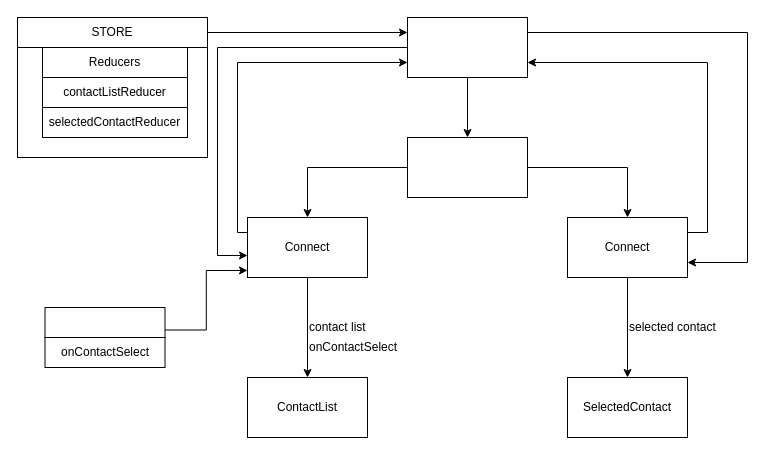
Image size: 773x455. Some labels were removed from this diagram. Here are the shapes that lost their labels. From the top down, the centre of each, then its label:
At (x=467, y=47): "Provider".
At (x=467, y=167): "App".
At (x=104, y=322): "Action creators".
